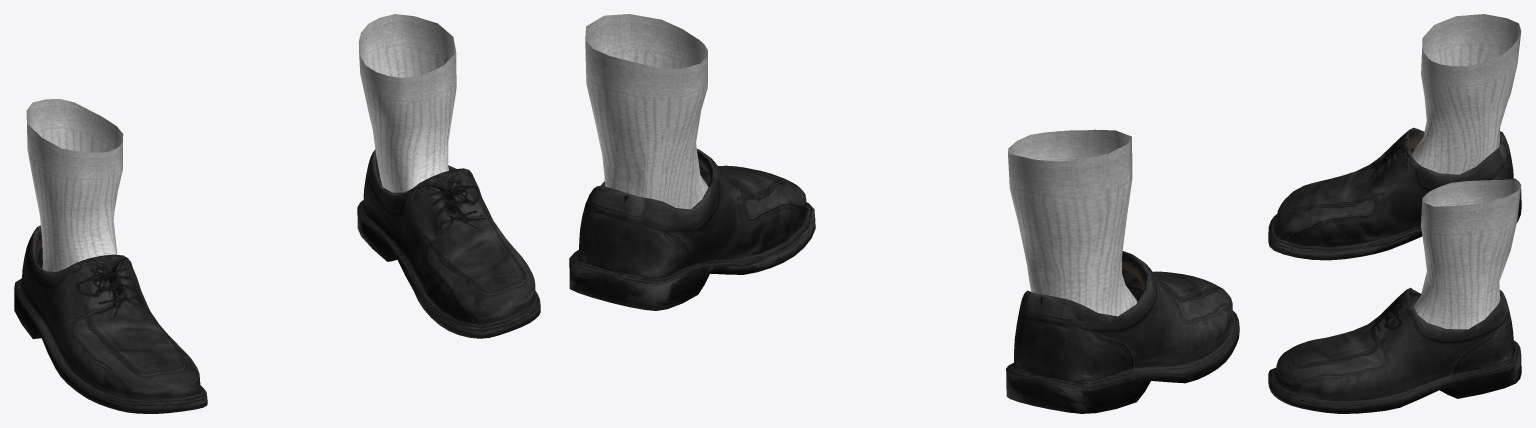
File: leather.glb
3 renders of one model, left to right at view 1: azimuth 30°, elevation 25°; view 2: azimuth 150°, elevation 25°; view 3: azimuth 270°, elevation 25°, orthographic. The views are drawn at different scales.
Visible parts, largest first — view 1: leather; view 2: leather; view 3: leather.
Boxes of the visible parts, x1,y1,x2,y2 form: leather: (14,14,540,413); leather: (569,14,1239,413); leather: (1268,14,1521,413).
Size of the model in its own units: 0.4476 by 0.213 by 0.2321.
2 materials, 2 textured.
